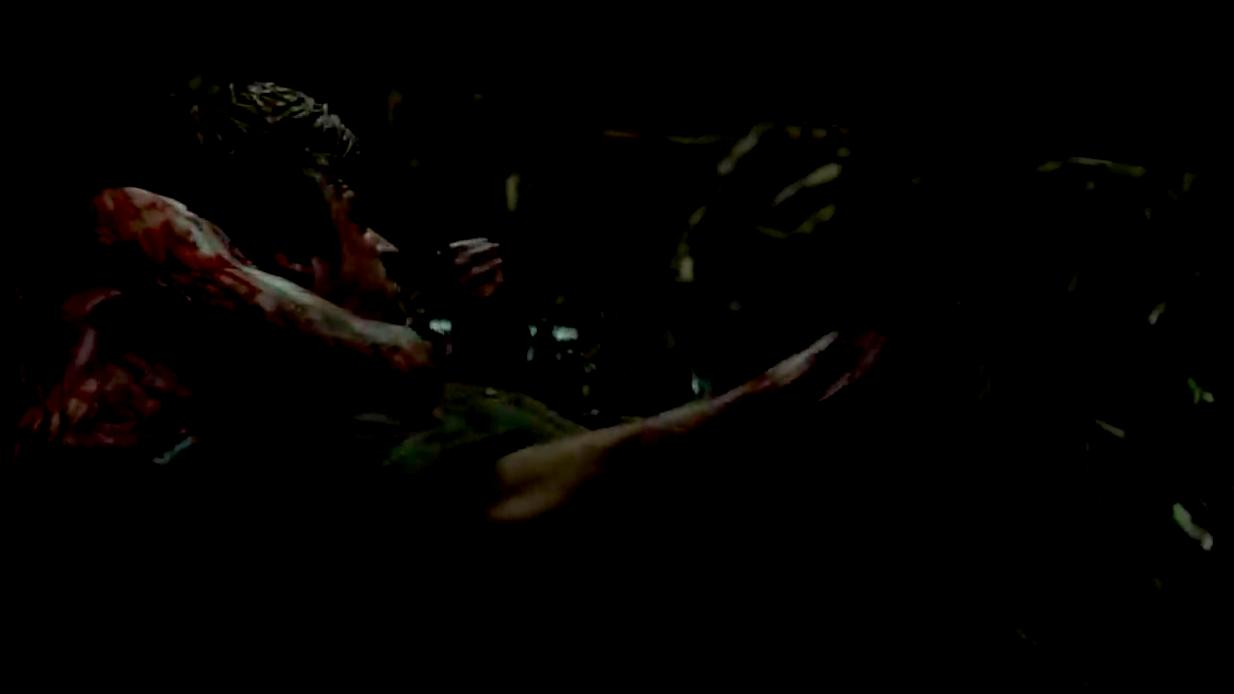Fire: (7, 186, 437, 473)
